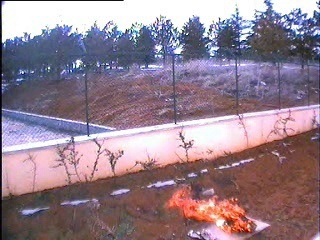fire: (165, 182, 254, 234)
